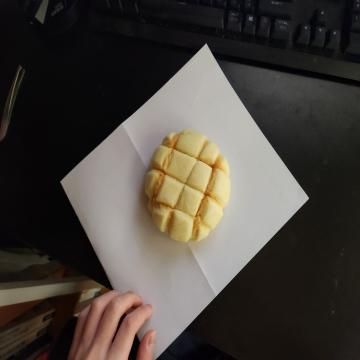melon_bread: (143, 127, 232, 245)
